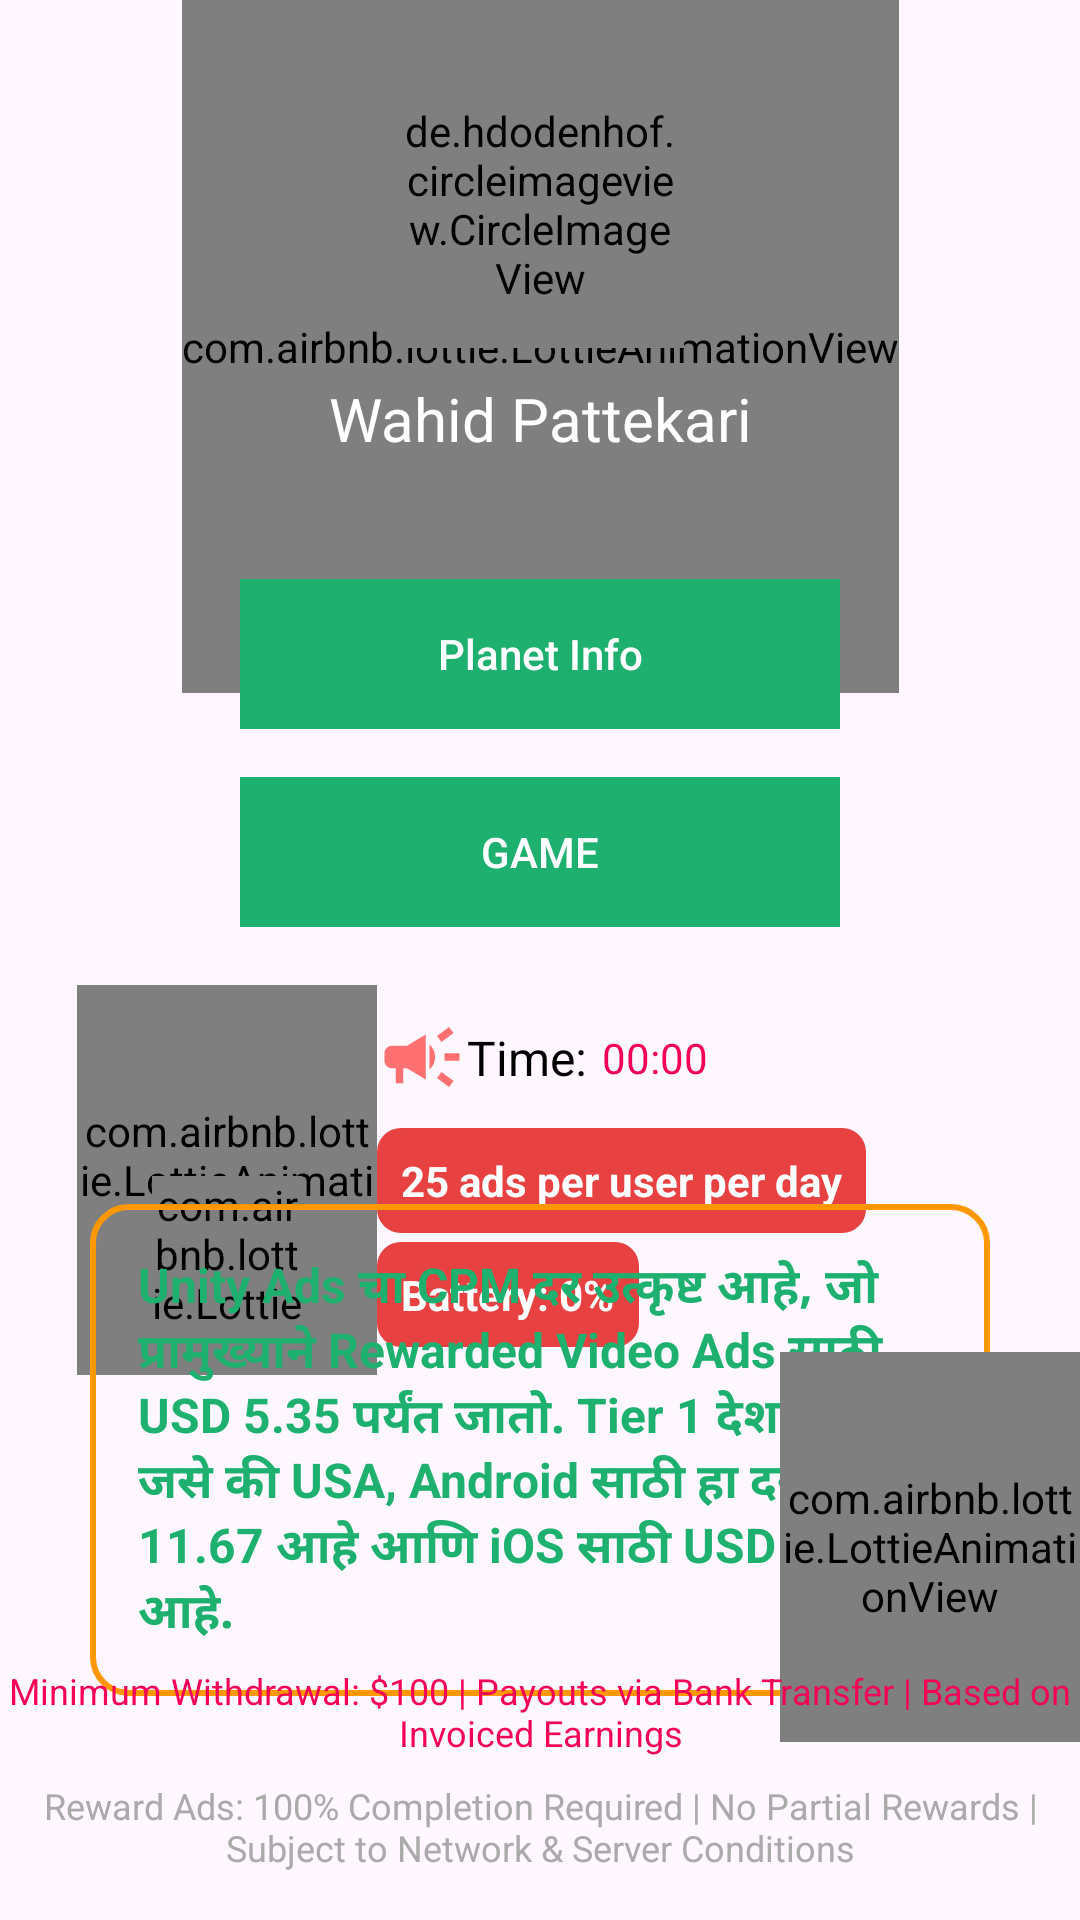

Where to tap for icons on this 1080w x 1920h app screen, as point (x, y):
campaign: point (422, 1057)
